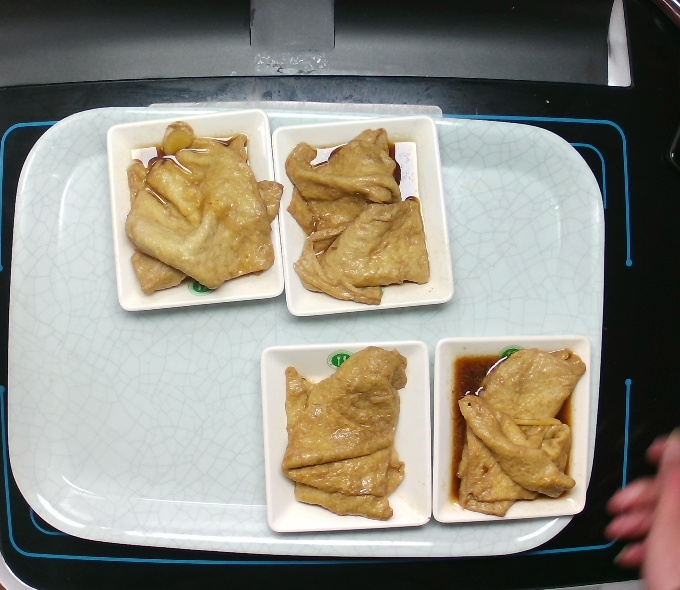wcq-YouDouFu: (122, 120, 277, 296), (284, 127, 429, 308), (451, 340, 585, 514), (281, 350, 409, 519)
